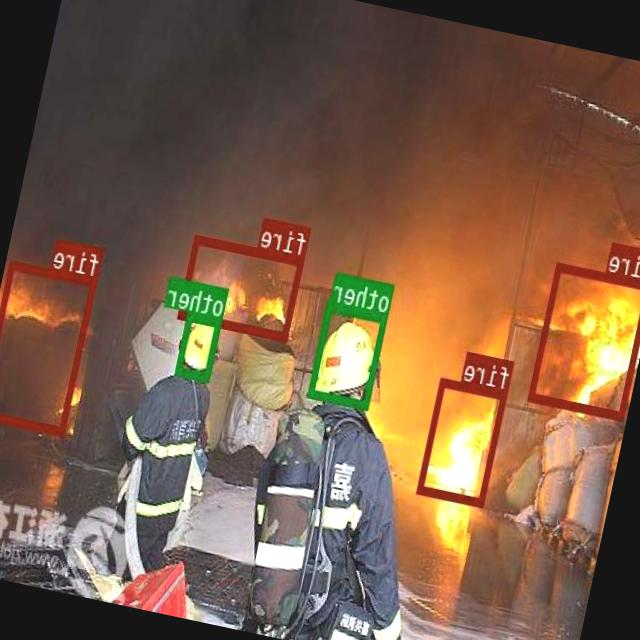fire: (530, 260, 640, 419), (0, 259, 97, 434), (178, 233, 306, 340), (418, 376, 508, 507)
